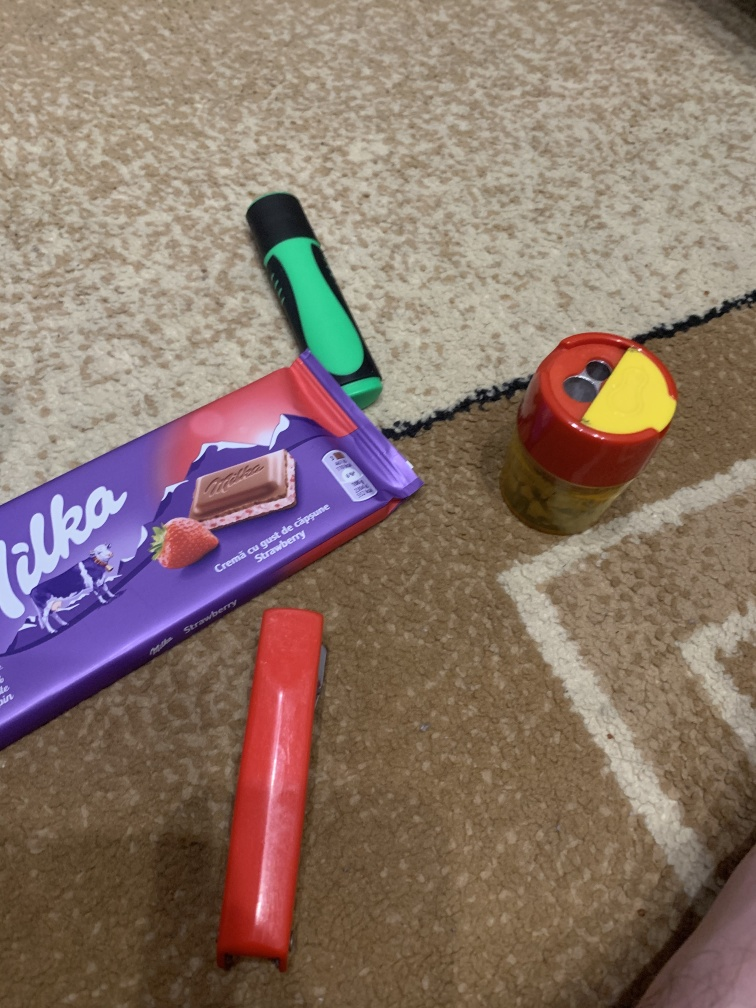milka: (7, 350, 428, 740)
